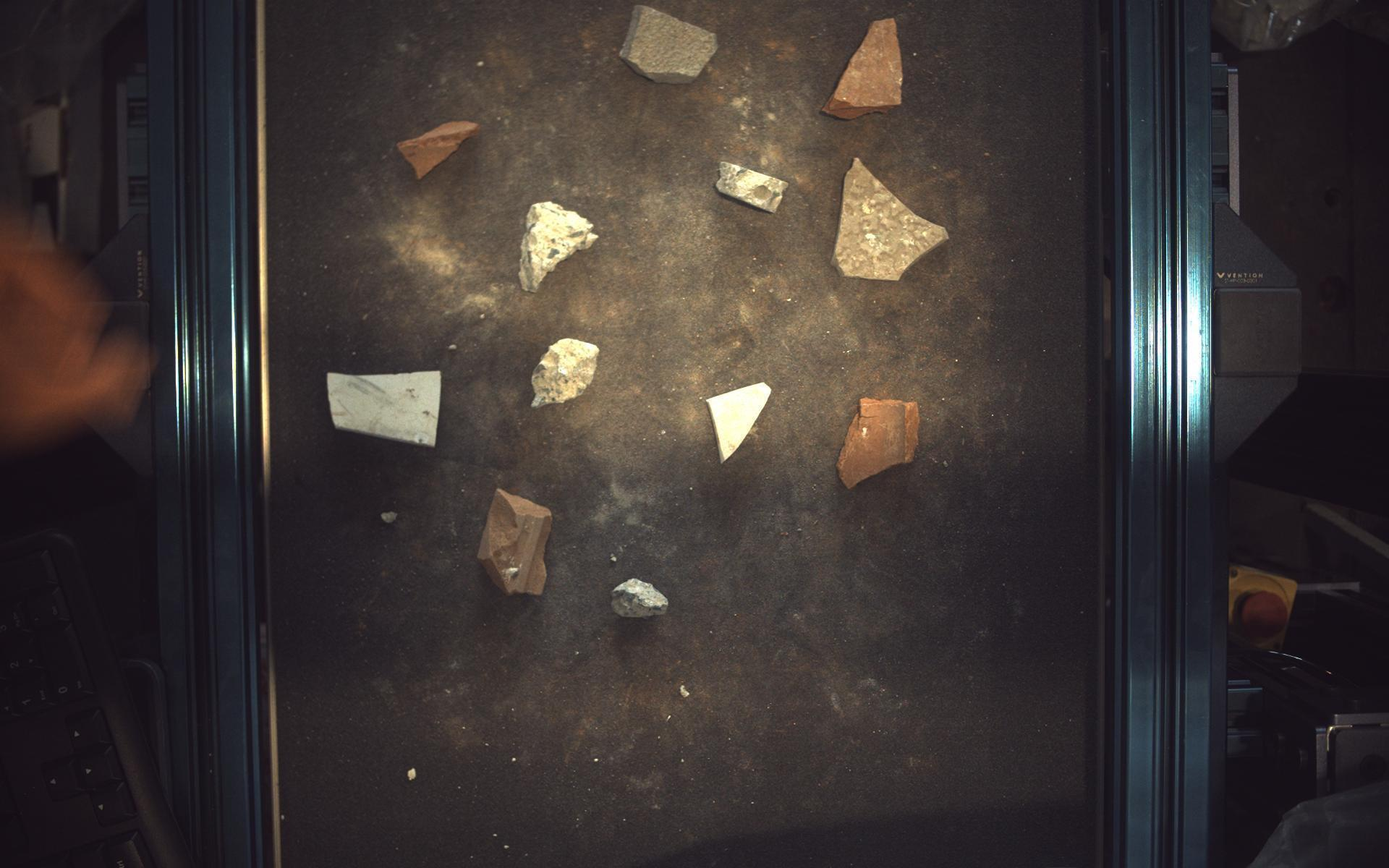brick: (823, 17, 904, 118), (477, 490, 552, 595), (839, 399, 922, 489), (398, 120, 480, 178)
concrete: (521, 200, 599, 292), (532, 338, 600, 407), (716, 160, 789, 213), (613, 579, 669, 618)
tile: (836, 157, 951, 280), (327, 371, 440, 447), (621, 4, 717, 82), (708, 382, 773, 462)
